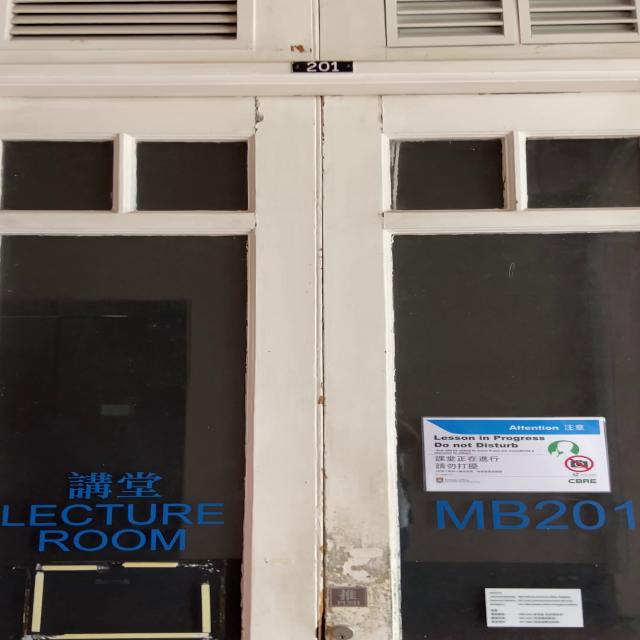room201: (286, 58, 358, 76)
room201Window: (433, 498, 640, 546)
